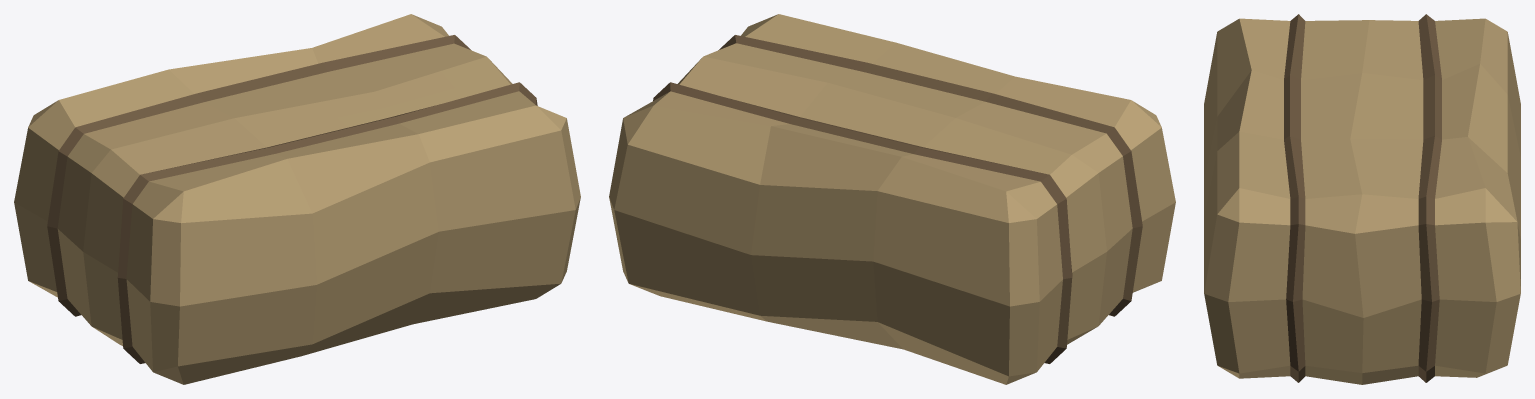
The model's file is SM_Prop_Hay_Bale_Square_03.glb.
3 renders of one model, left to right at view 1: azimuth 30°, elevation 25°; view 2: azimuth 150°, elevation 25°; view 3: azimuth 270°, elevation 25°, orthographic.
Visible parts, largest first — view 1: SM_Prop_Hay_Bale_Square_03; view 2: SM_Prop_Hay_Bale_Square_03; view 3: SM_Prop_Hay_Bale_Square_03.
Boxes of the visible parts, x1,y1,x2,y2 form: SM_Prop_Hay_Bale_Square_03: (14,14,580,384); SM_Prop_Hay_Bale_Square_03: (609,14,1175,384); SM_Prop_Hay_Bale_Square_03: (1204,14,1520,384).
Size of the model in its own units: 1.61 by 0.7179 by 1.04.
Materials: 1 (1 with a texture image).
